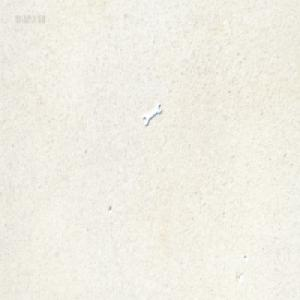Wrench: (142, 104, 162, 127)
